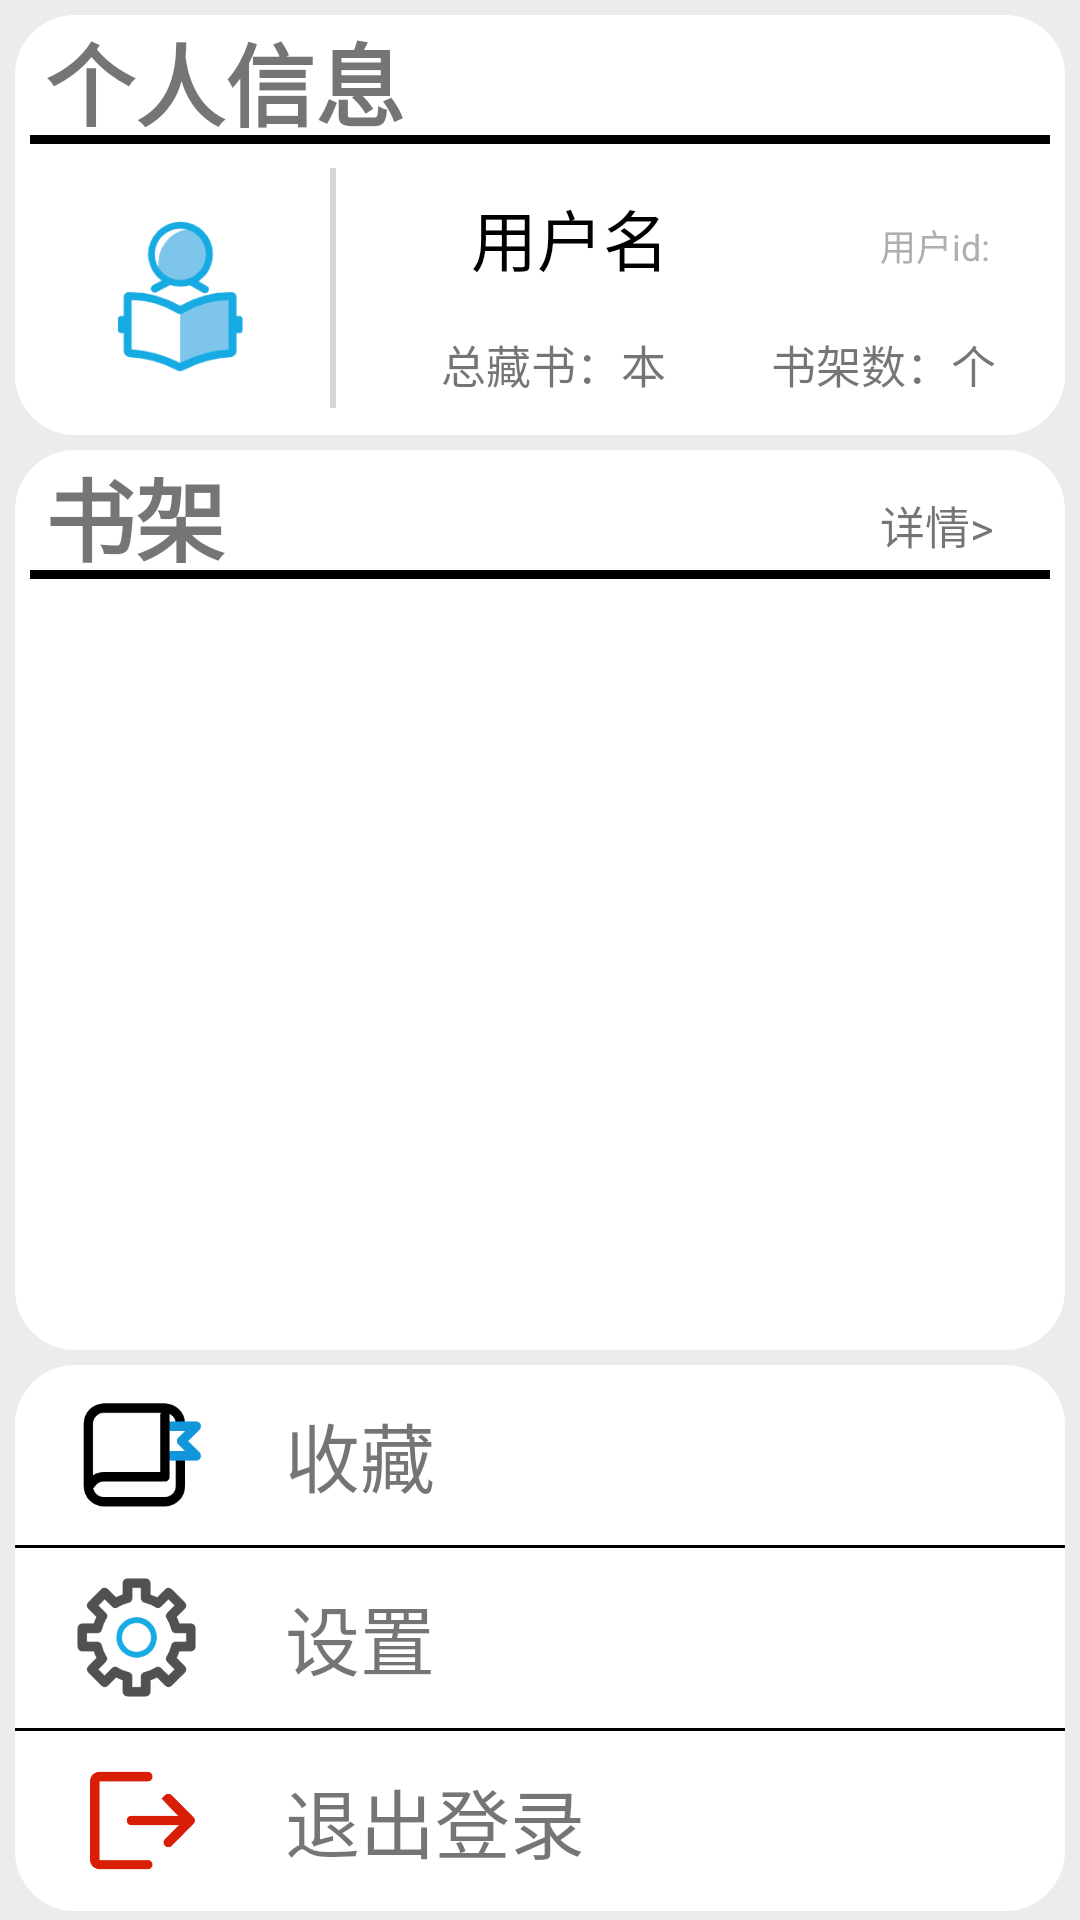

Named icons in this screenshot (1080px×1920px) and their centers, [x,y]:
set: [136,1637]
